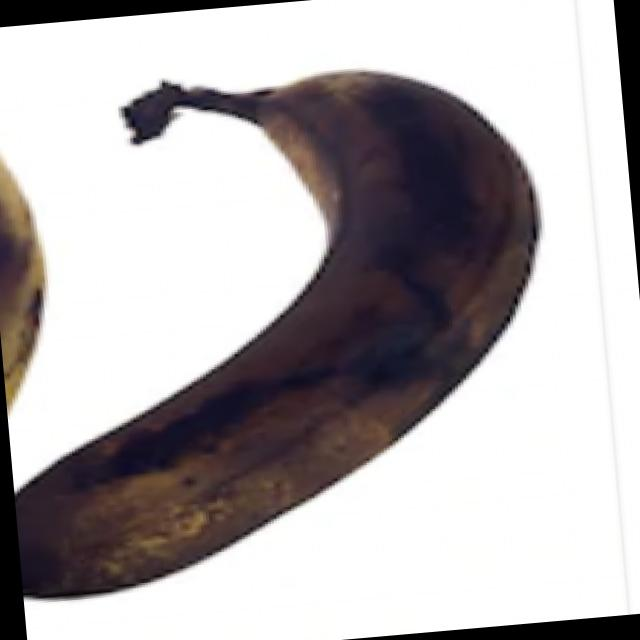rotten-banana: (18, 9, 578, 607)
